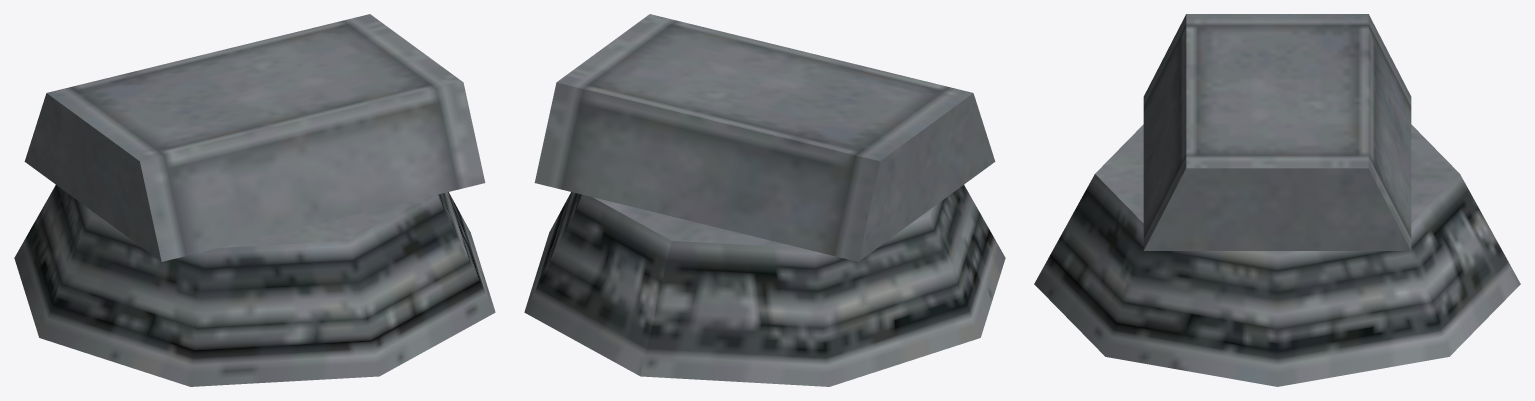
The model's file is tie_aggressor_turret_base_l1.fbx.
The picture shows the model from 3 angles, left to right: view 1: azimuth 30°, elevation 25°; view 2: azimuth 150°, elevation 25°; view 3: azimuth 270°, elevation 25°; orthographic projection. The views are drawn at different scales.
Parts seen in each view (by area): view 1: mesh_node; view 2: mesh_node; view 3: mesh_node.
Part boxes in pixels (x1,y1,x2,y2): mesh_node: (14,14,495,386); mesh_node: (524,14,1005,386); mesh_node: (1034,14,1520,386).
Size of the model in its own units: 0.8 by 0.35 by 0.8.
1 material, 1 textured.
